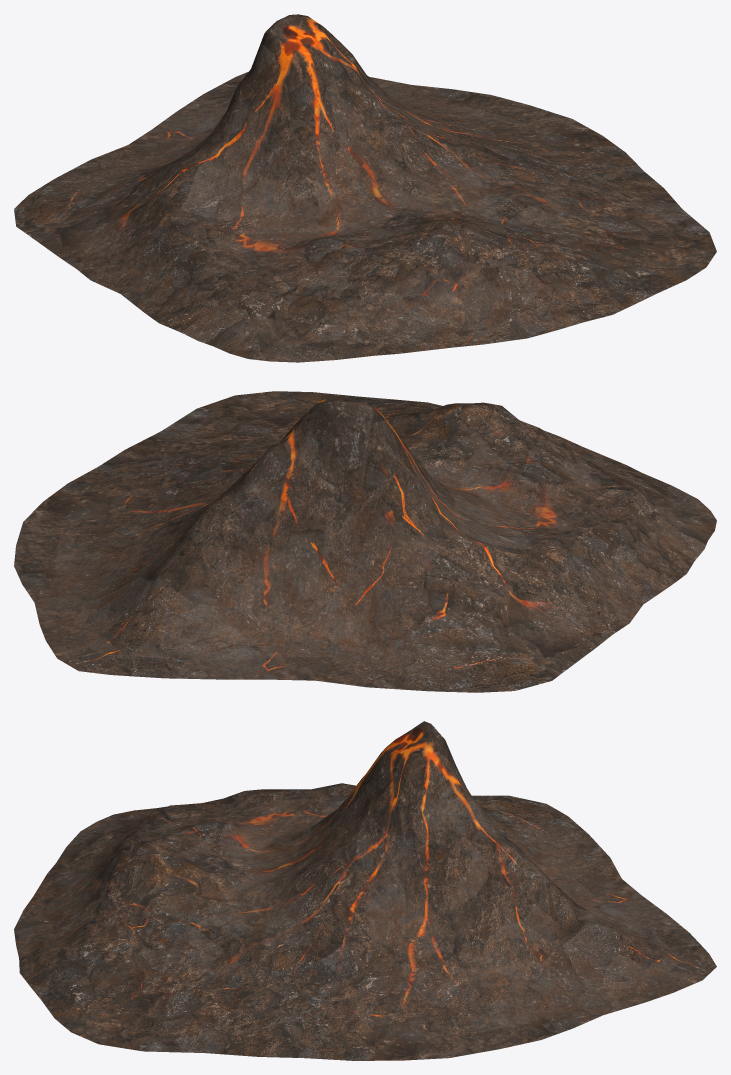
Rendered from EP1_Terrain04a.fbx.
3 views of the same model, one above another, from view 1: azimuth 30°, elevation 25°; view 2: azimuth 150°, elevation 25°; view 3: azimuth 270°, elevation 25° (orthographic). The views are drawn at different scales.
Visible parts, largest first — view 1: EP1_Terrain04a; view 2: EP1_Terrain04a; view 3: EP1_Terrain04a.
Part boxes in pixels (x1,y1,x2,y2): EP1_Terrain04a: (14, 14, 716, 362); EP1_Terrain04a: (14, 391, 716, 692); EP1_Terrain04a: (14, 721, 716, 1060).
Bounding box in the file's own units: 12.54 × 4.03 × 14.04.
1 material, 1 textured.
